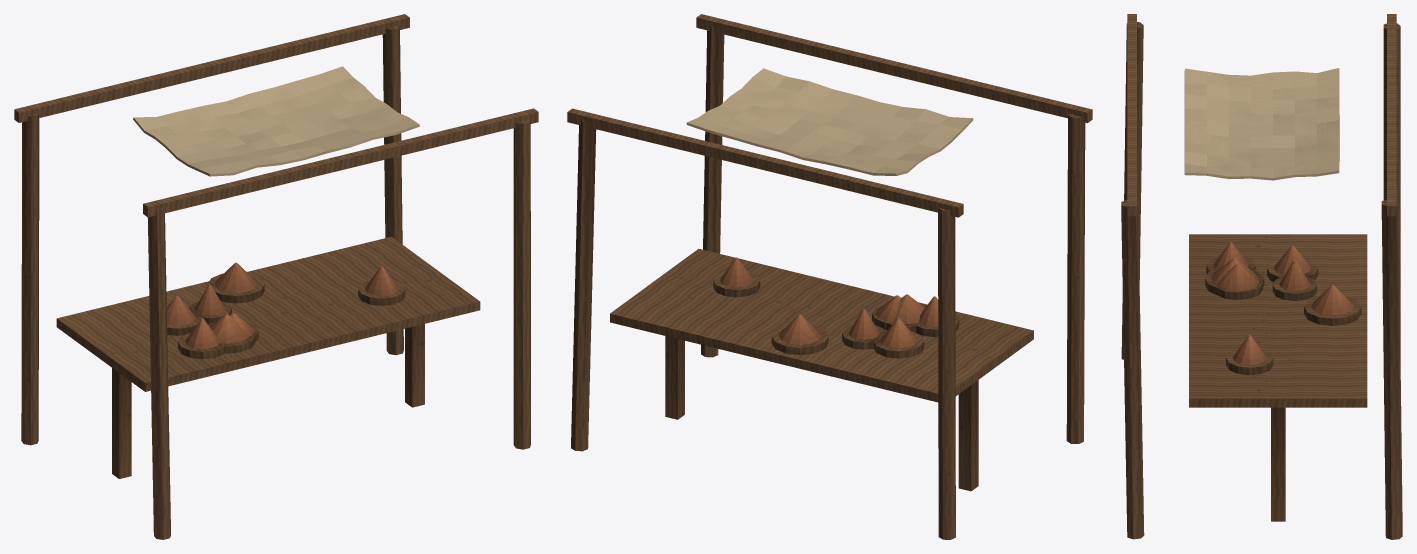
Rendered from canopy_spice.glb.
3 renders of one model, left to right at view 1: azimuth 30°, elevation 25°; view 2: azimuth 150°, elevation 25°; view 3: azimuth 270°, elevation 25°, orthographic.
Parts seen in each view (by area): view 1: canopy_spice; view 2: canopy_spice; view 3: canopy_spice.
Boxes of the visible parts, x1,y1,x2,y2 form: canopy_spice: (14, 14, 538, 539); canopy_spice: (567, 14, 1092, 539); canopy_spice: (1121, 14, 1402, 539).
Bounding box in the file's own units: 2.8 × 2.29 × 1.74.
Materials: 3 (3 with a texture image).
